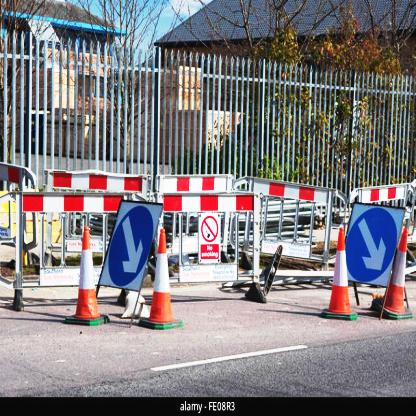Keep right: (344, 201, 404, 288), (106, 200, 160, 291)
